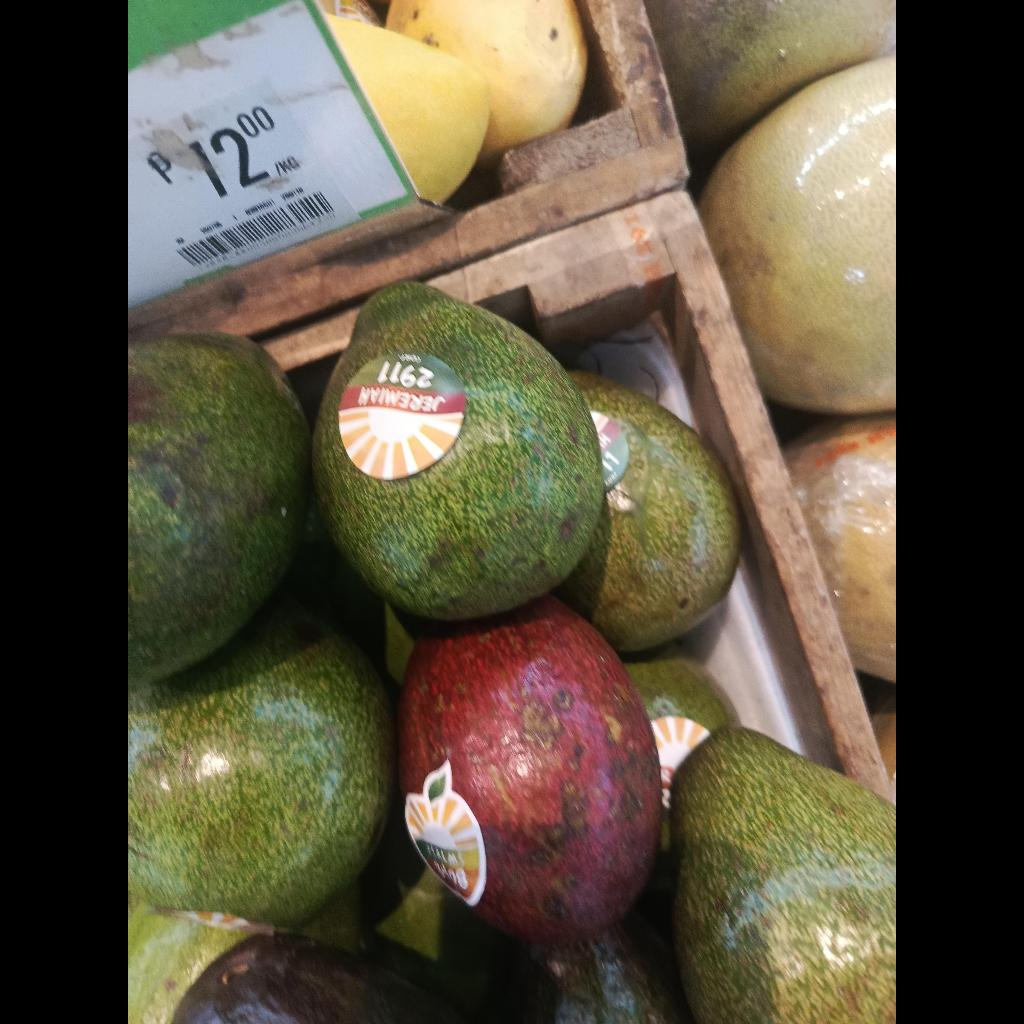antracnosis_fruto: (128, 333, 311, 688)
